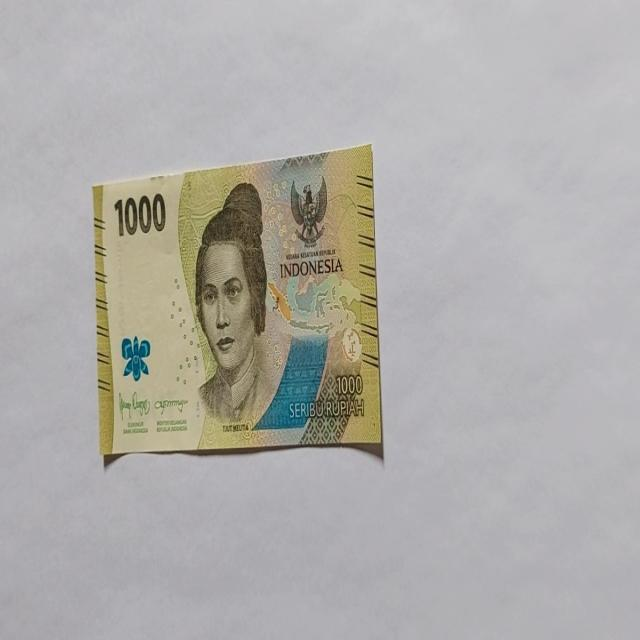seribu rupiah kertas: (92, 142, 383, 460)
